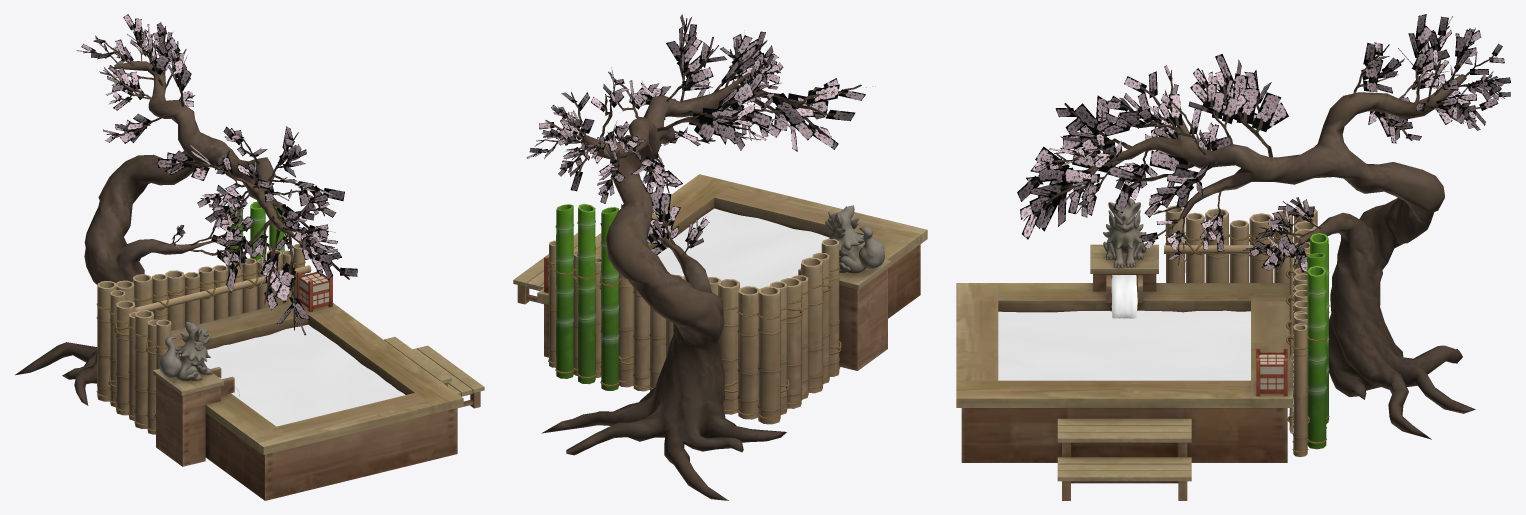
File: SM_PalSpaCypressBath_938d81.glb
The picture shows the model from 3 angles, left to right: view 1: azimuth 30°, elevation 25°; view 2: azimuth 150°, elevation 25°; view 3: azimuth 270°, elevation 25°; orthographic projection. The views are drawn at different scales.
Bounding box in the file's own units: 6.27 × 6.77 × 8.44.
Materials: 5 (3 with a texture image).
